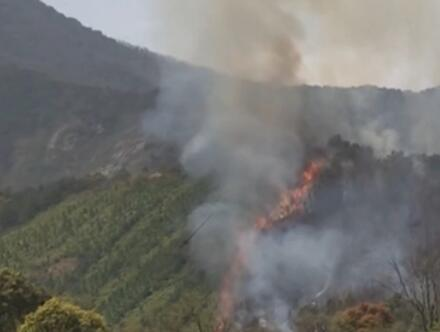fire: (204, 156, 325, 332)
smoke: (143, 0, 439, 328)
